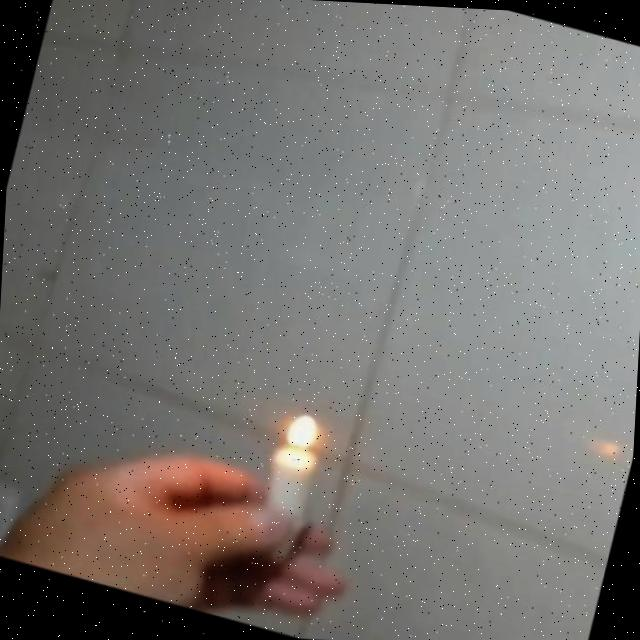fire: (277, 408, 331, 459)
